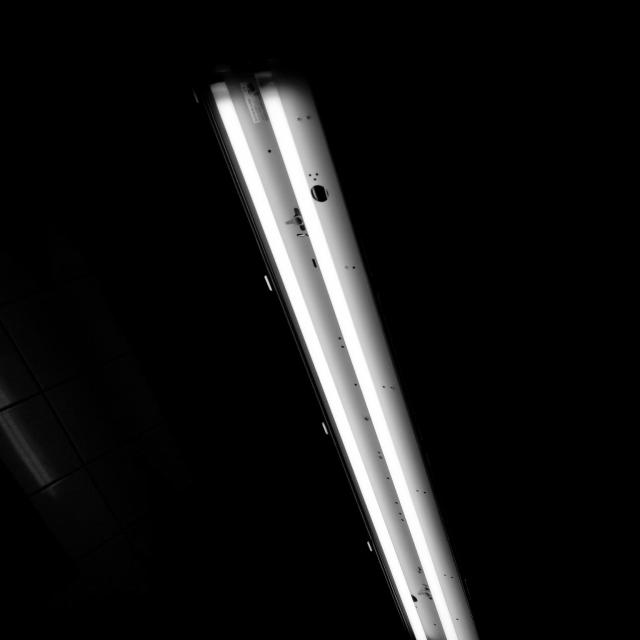light: (192, 61, 477, 640)
